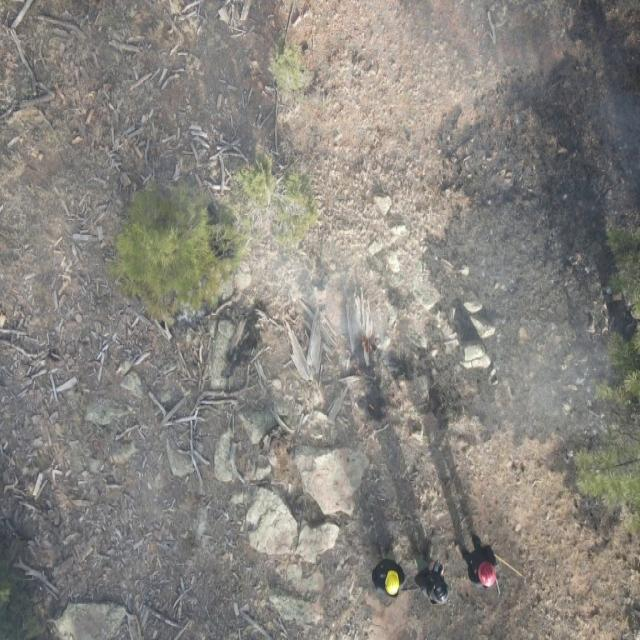fire: (358, 334, 378, 354), (349, 363, 364, 377), (367, 400, 380, 414)
smoke: (0, 0, 640, 448), (1, 450, 350, 640)
